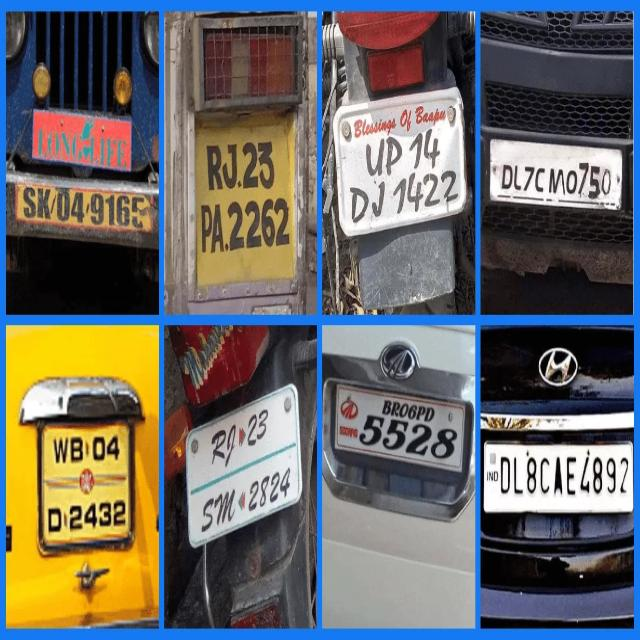plate: (332, 84, 467, 238), (184, 382, 303, 548), (191, 123, 300, 284), (332, 380, 466, 476), (38, 418, 133, 550), (482, 436, 633, 516), (487, 135, 624, 212), (13, 174, 150, 240)
